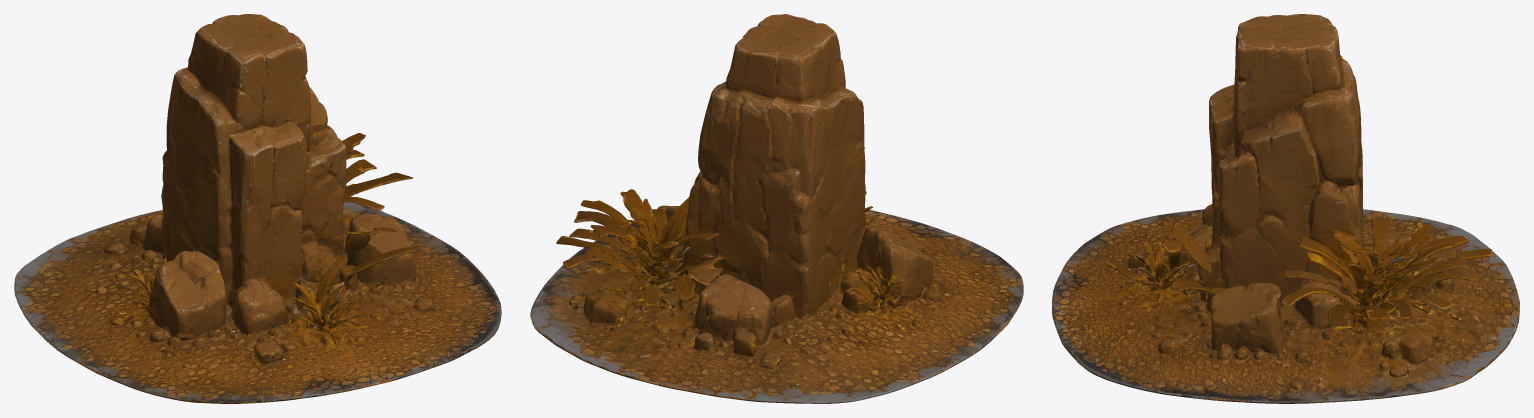
File: desert-big-rock-1.glb
The picture shows the model from 3 angles, left to right: view 1: azimuth 30°, elevation 25°; view 2: azimuth 150°, elevation 25°; view 3: azimuth 270°, elevation 25°; orthographic projection.
Parts seen in each view (by area): view 1: textured_mesh.obj; view 2: textured_mesh.obj; view 3: textured_mesh.obj.
Part boxes in pixels (x1,y1,x2,y2): textured_mesh.obj: [14, 14, 501, 403]; textured_mesh.obj: [530, 14, 1023, 403]; textured_mesh.obj: [1052, 14, 1519, 403].
Size of the model in its own units: 1.99 by 1.28 by 1.99.
1 material, 1 textured.
